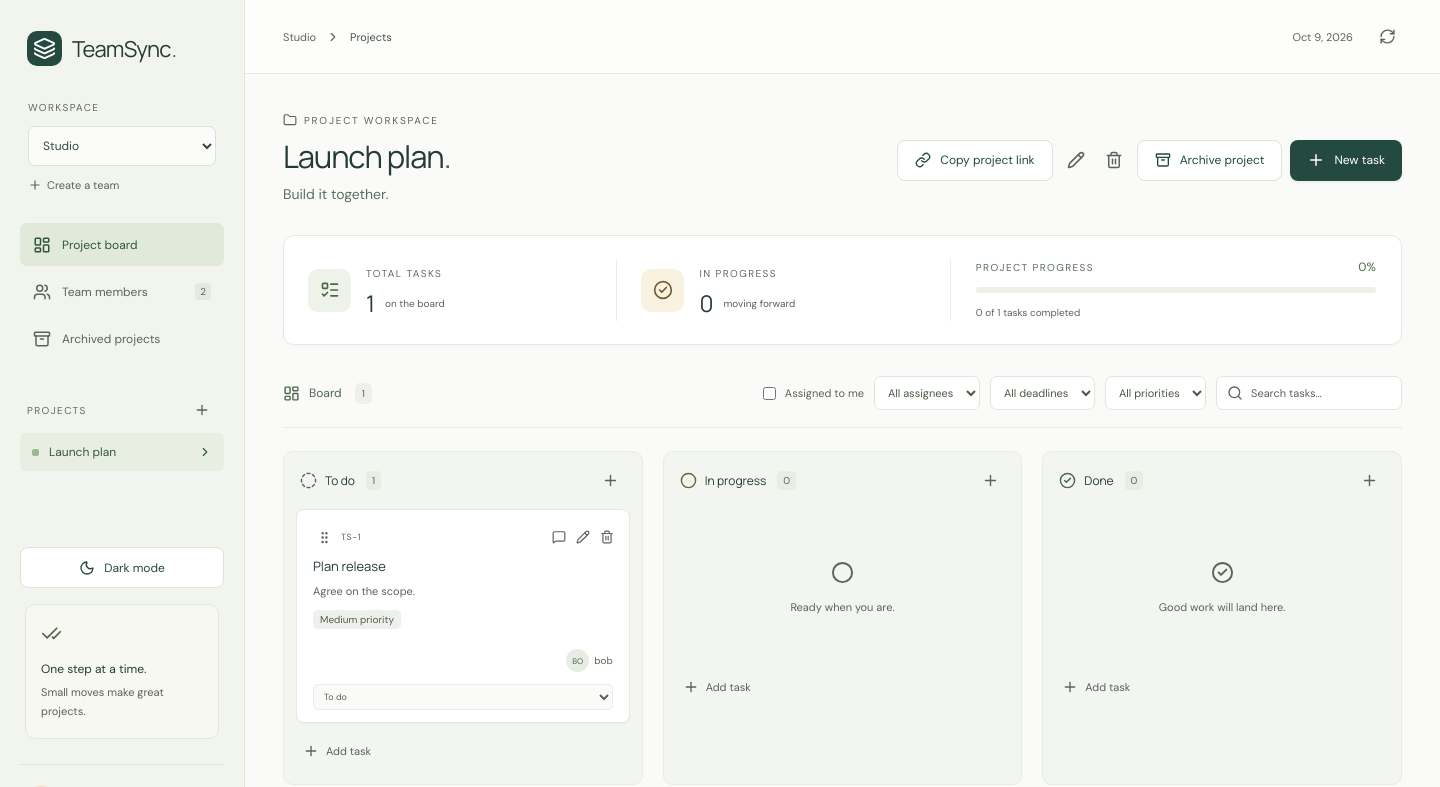
Test: creates tasks in the selected column
Expected: the heading "Launch plan." is shown, [283,136,450,176]
Click the button named "Create task from In progress": (990, 480) [975,465,1005,495]
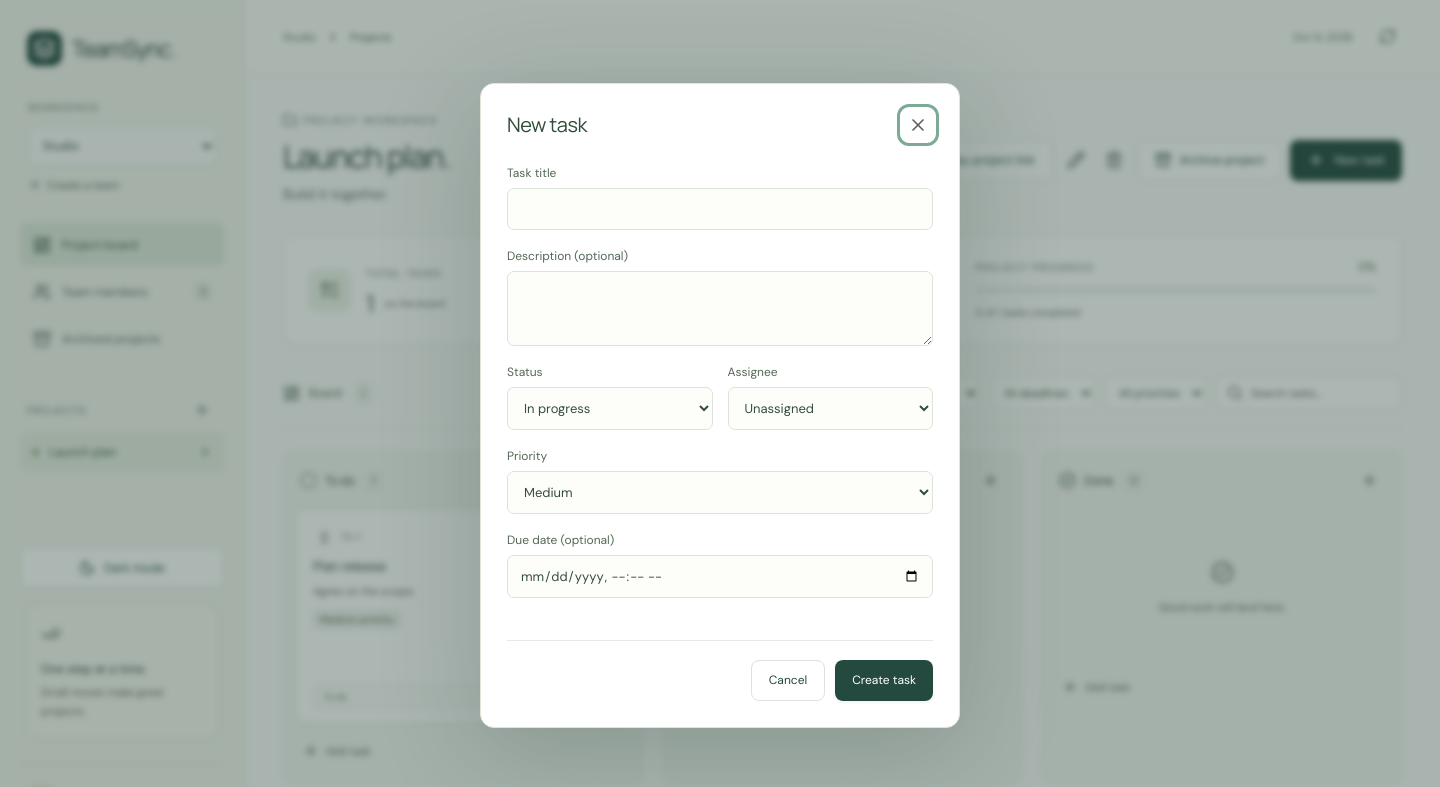
Now the dropdown labelled "Status" shows "In progress", box [507,386,712,430]
In the field labelled "Task title": (720, 208) [507,188,933,230], type "Build release"
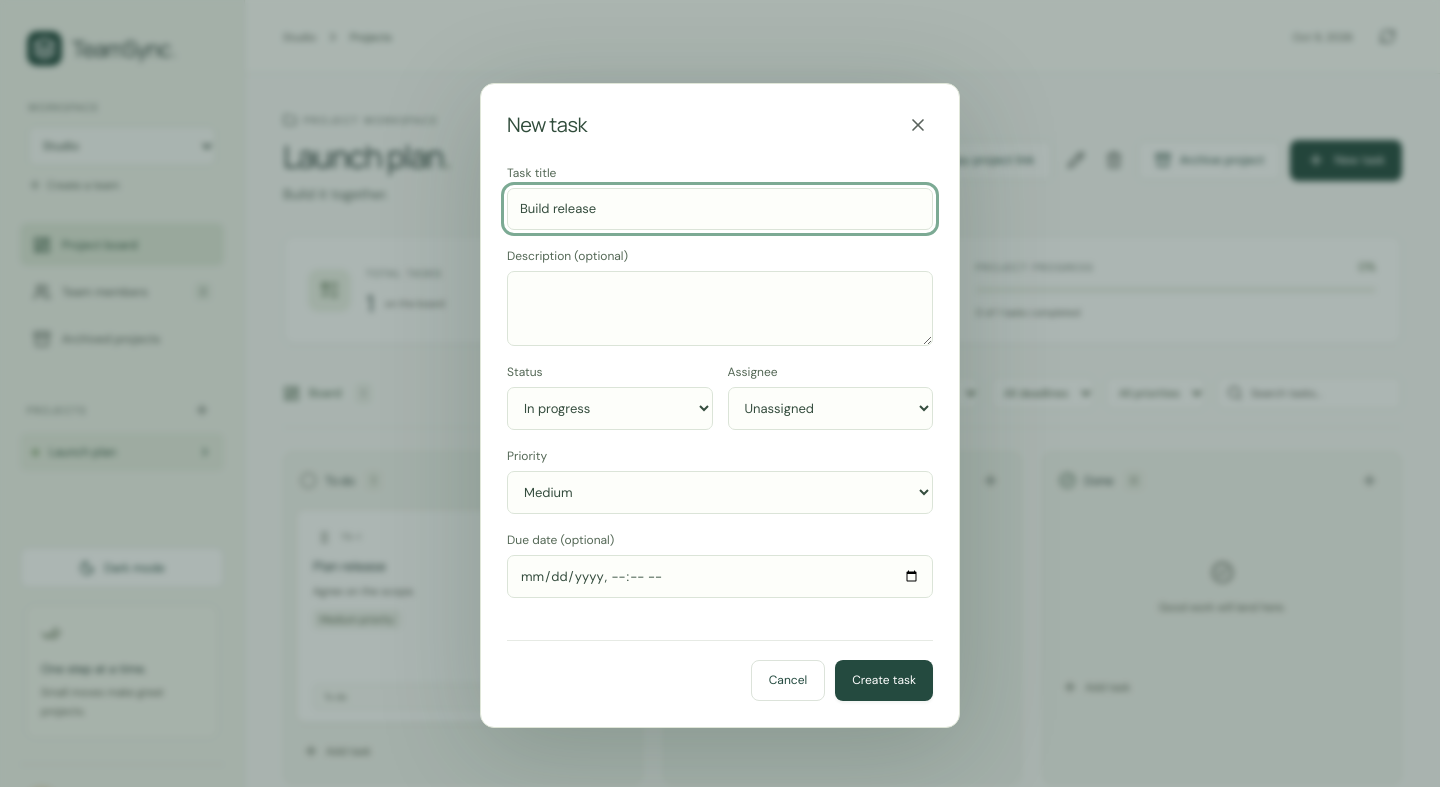
Click the button "Create task": (884, 680) [835,660,933,700]
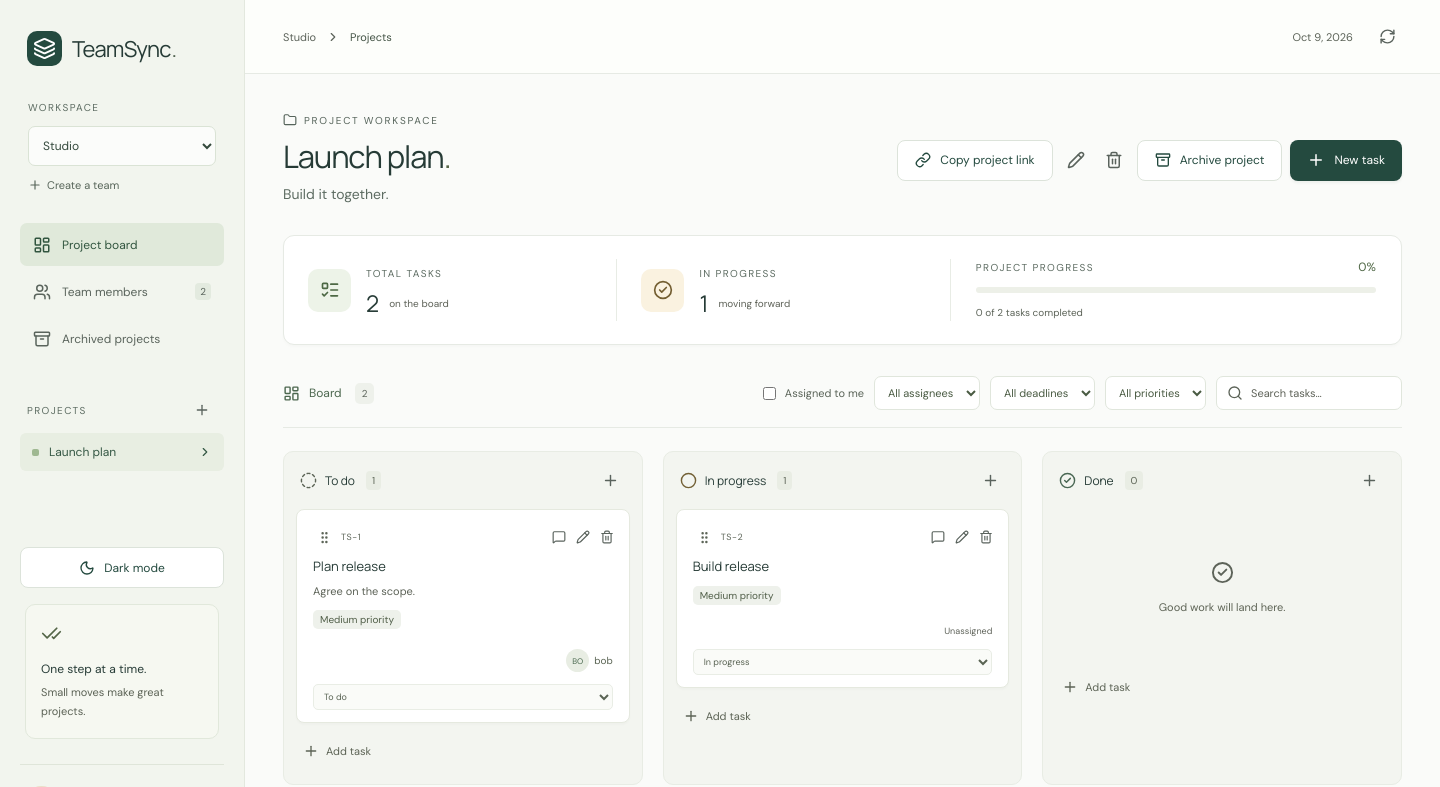
Now the heading "Build release" is shown, box [693,557,769,575]
